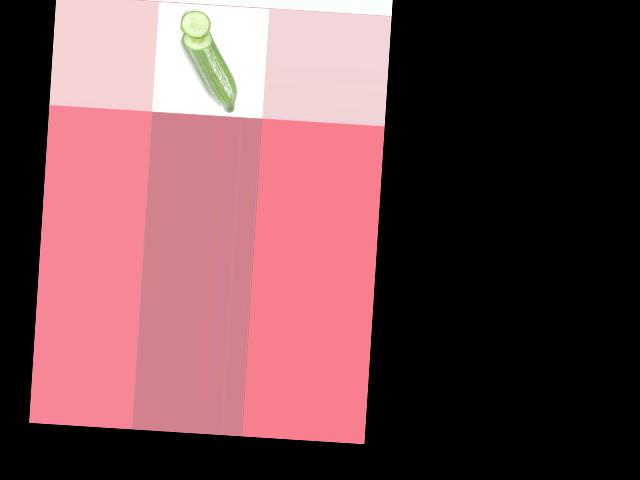cucumber: (177, 28, 240, 112)
